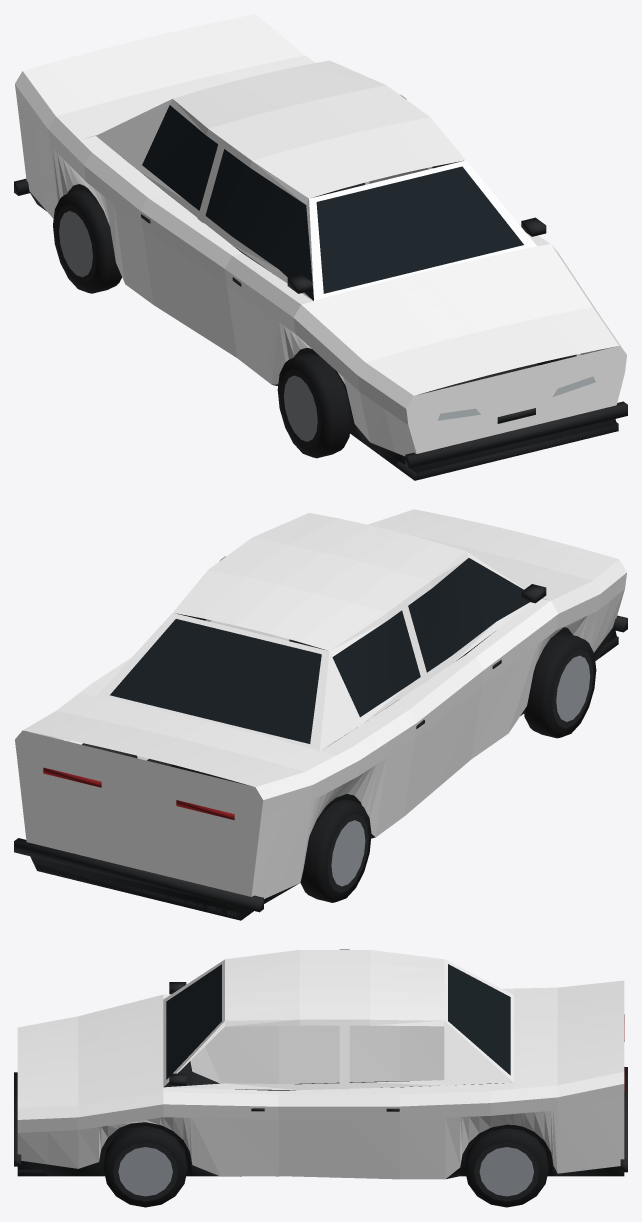
Rendered from hoshino_horizonte.glb.
The picture shows the model from 3 angles, top to bottom: view 1: azimuth 30°, elevation 25°; view 2: azimuth 150°, elevation 25°; view 3: azimuth 270°, elevation 25°; orthographic projection. The views are drawn at different scales.
Parts seen in each view (by area): view 1: Body_Paint, Body_Details, Mount_FrontLeft_Wheel_Details, Mount_RearLeft_Wheel_Details; view 2: Body_Paint, Body_Details, Mount_FrontLeft_Wheel_Details, Mount_RearLeft_Wheel_Details; view 3: Body_Paint, Body_Details, Mount_FrontRight_Wheel_Details, Mount_RearRight_Wheel_Details.
Part boxes in pixels (x1=…): Body_Paint: x1=15, y1=14, x2=626, y2=456; Body_Details: x1=14, y1=105, x2=627, y2=480; Mount_FrontLeft_Wheel_Details: x1=277, y1=353, x2=351, y2=458; Mount_RearLeft_Wheel_Details: x1=53, y1=189, x2=121, y2=293; Body_Paint: x1=15, y1=509, x2=626, y2=898; Body_Details: x1=14, y1=558, x2=627, y2=920; Mount_FrontLeft_Wheel_Details: x1=524, y1=632, x2=596, y2=738; Mount_RearLeft_Wheel_Details: x1=300, y1=799, x2=371, y2=902; Body_Paint: x1=17, y1=949, x2=624, y2=1179; Body_Details: x1=14, y1=964, x2=627, y2=1178; Mount_FrontRight_Wheel_Details: x1=103, y1=1126, x2=187, y2=1207; Mount_RearRight_Wheel_Details: x1=464, y1=1128, x2=548, y2=1207.
Bounding box in the file's own units: 1.95 × 1.46 × 4.68.
2 materials, 1 textured.
